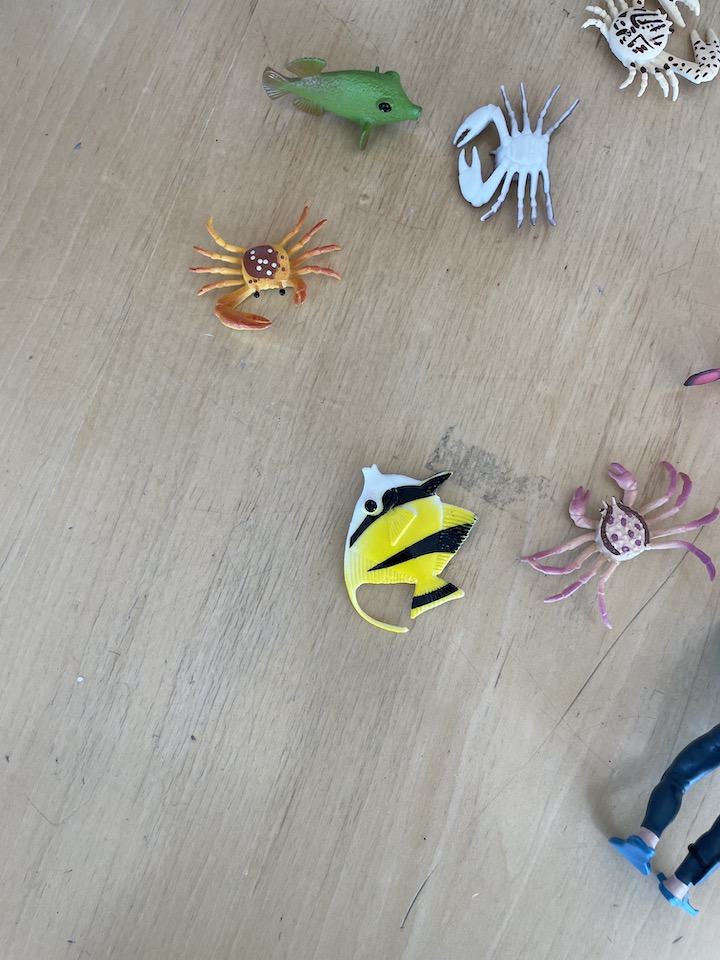crab: (515, 454, 720, 634), (187, 200, 346, 337), (452, 77, 584, 230), (575, 1, 720, 105)
danger: (334, 456, 484, 639)
diver: (598, 717, 720, 918)
fish: (256, 54, 428, 156)
